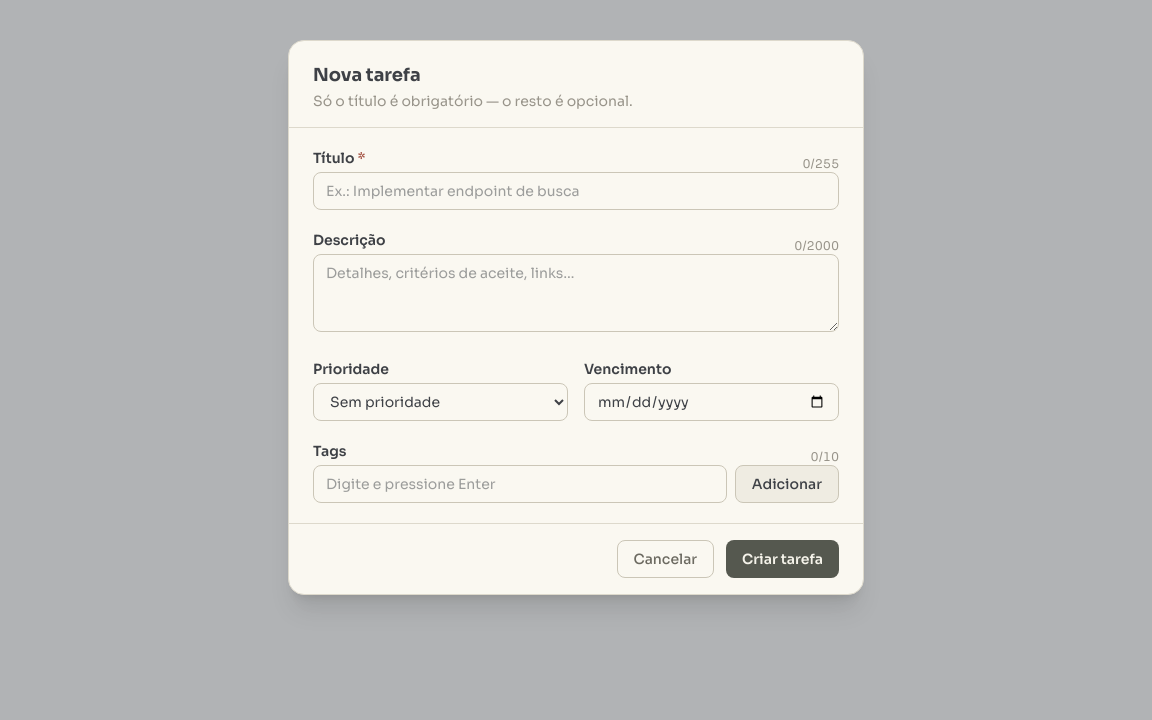
TaskForm - modo criação › reabilita o botão de salvar e mostra erro quando a API rejeita
In the field labelled "Título *": [576, 191] box top-left (313, 172), bottom-right (839, 210), type "Vai falhar"
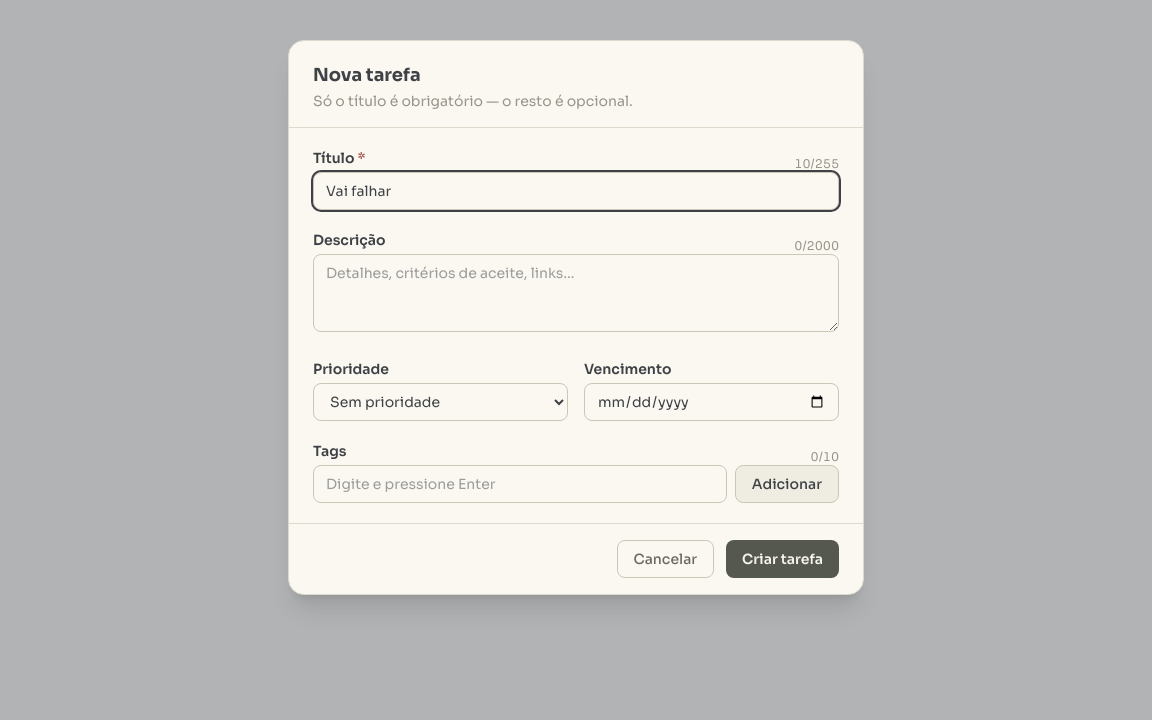
Click the button "Criar tarefa": [783, 559] box top-left (726, 540), bottom-right (839, 578)
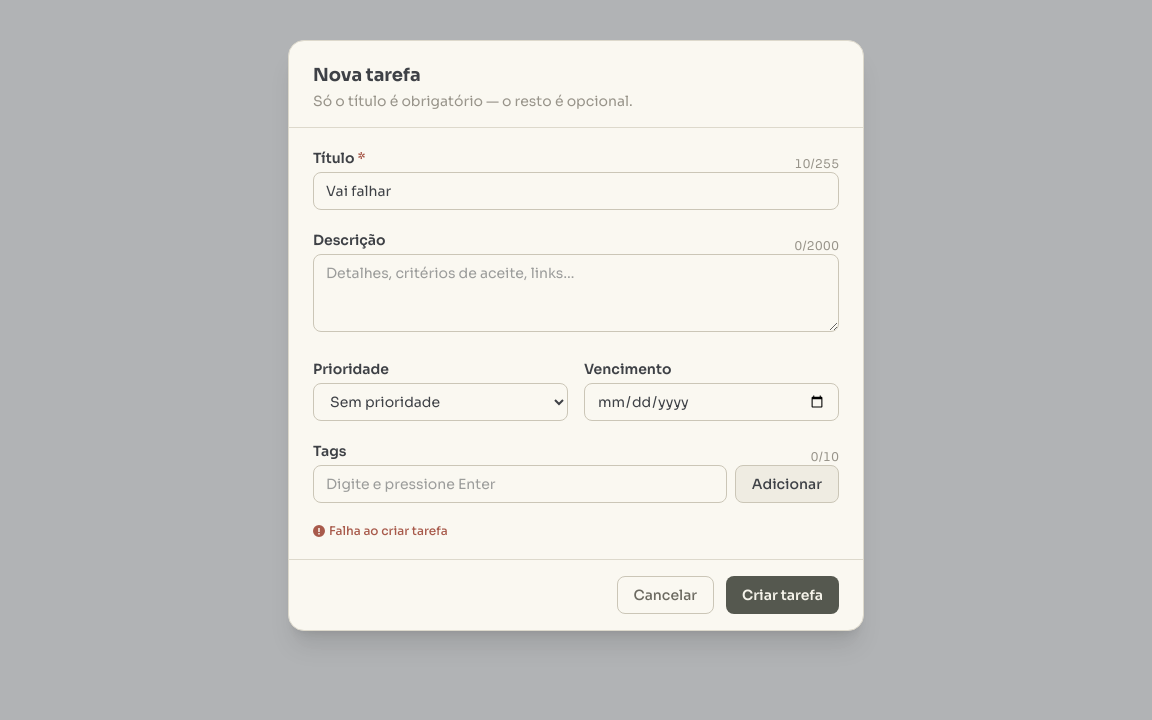
Expected: the button "Criar tarefa" is enabled, top-left (726, 576), bottom-right (839, 614)
Expected: the message "Falha ao criar tarefa" is shown, top-left (313, 523), bottom-right (448, 538)
